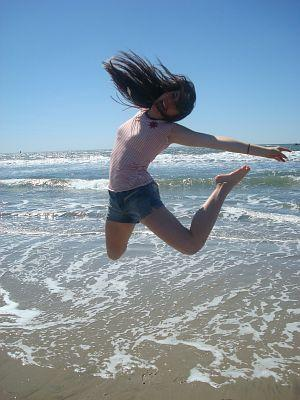person: (104, 48, 287, 264)
